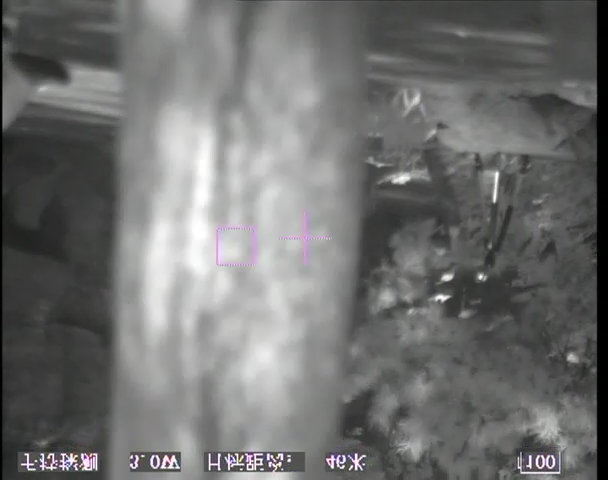my: (476, 271, 487, 283)
